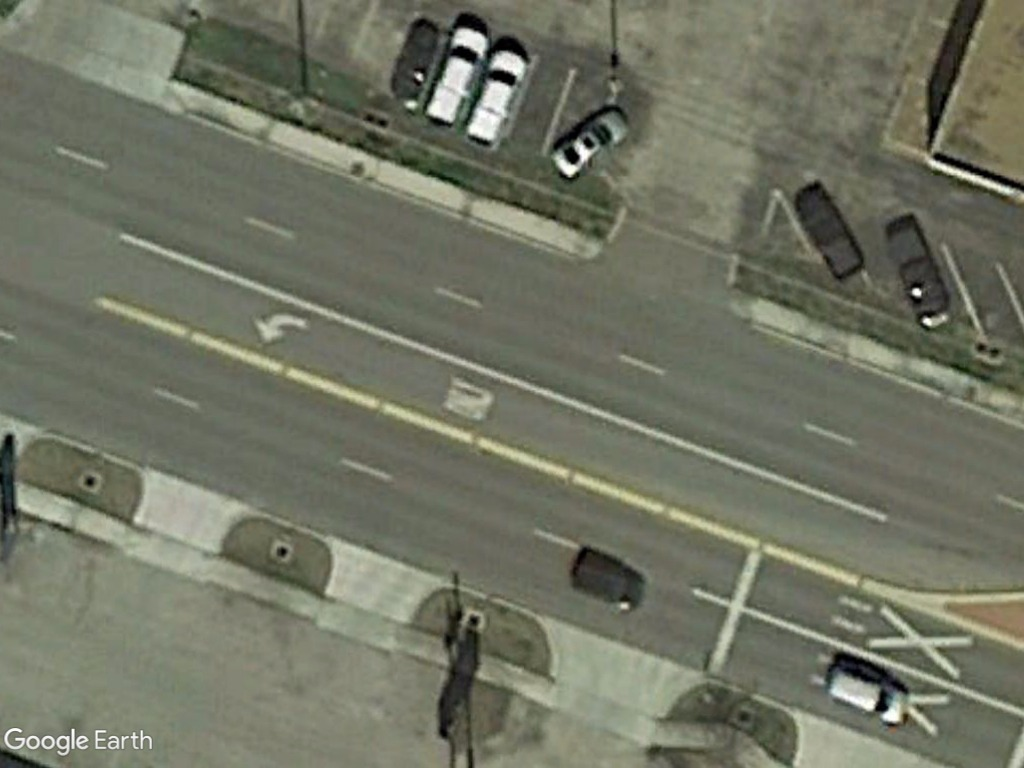car: (823, 656, 914, 735), (548, 107, 633, 181)
van: (416, 18, 491, 131), (463, 39, 534, 154)
